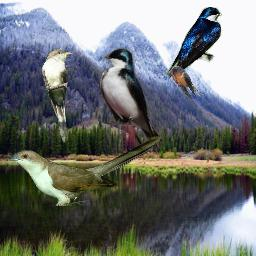Cuckoo: (5, 135, 161, 206), (42, 48, 73, 143)
Swallow: (98, 47, 163, 152), (166, 7, 222, 79), (171, 66, 204, 99)
